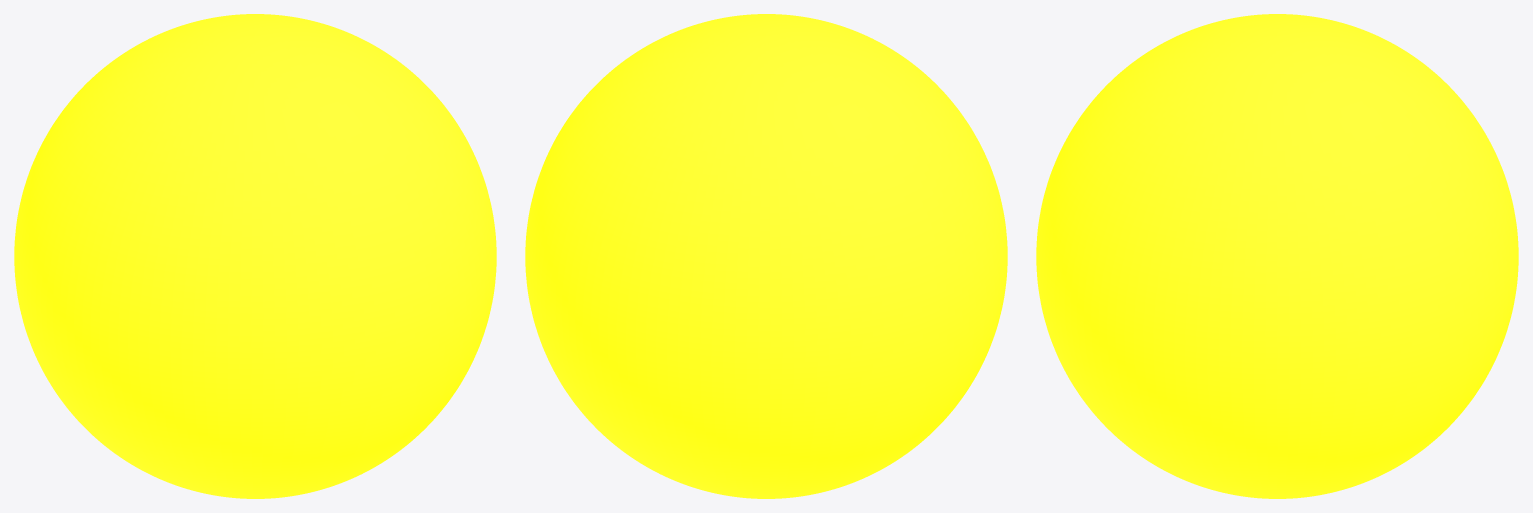
The model's file is Yellow_esfera.glb.
3 renders of one model, left to right at view 1: azimuth 30°, elevation 25°; view 2: azimuth 150°, elevation 25°; view 3: azimuth 270°, elevation 25°, orthographic.
Parts seen in each view (by area): view 1: Yellow_Sphere; view 2: Yellow_Sphere; view 3: Yellow_Sphere.
Boxes of the visible parts, bbox=[...] form: Yellow_Sphere: bbox=[14, 14, 496, 498]; Yellow_Sphere: bbox=[525, 14, 1007, 498]; Yellow_Sphere: bbox=[1036, 14, 1518, 498].
Bounding box in the file's own units: 2.98 × 3 × 2.98.
